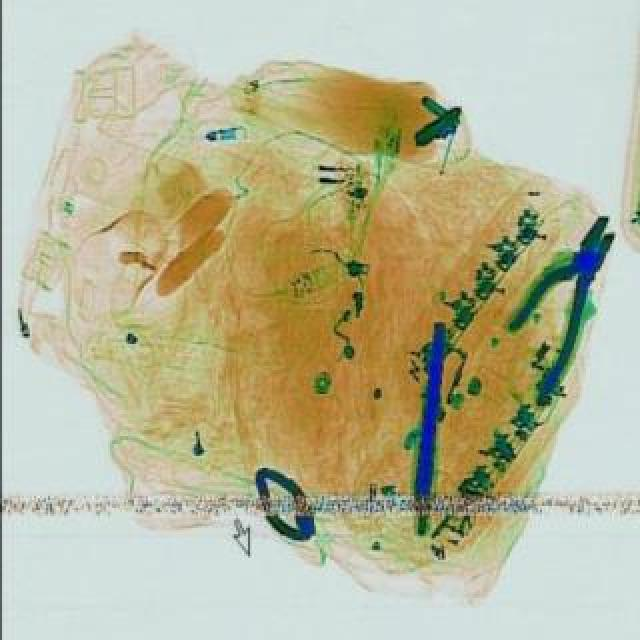wrench: (496, 212, 640, 396)
